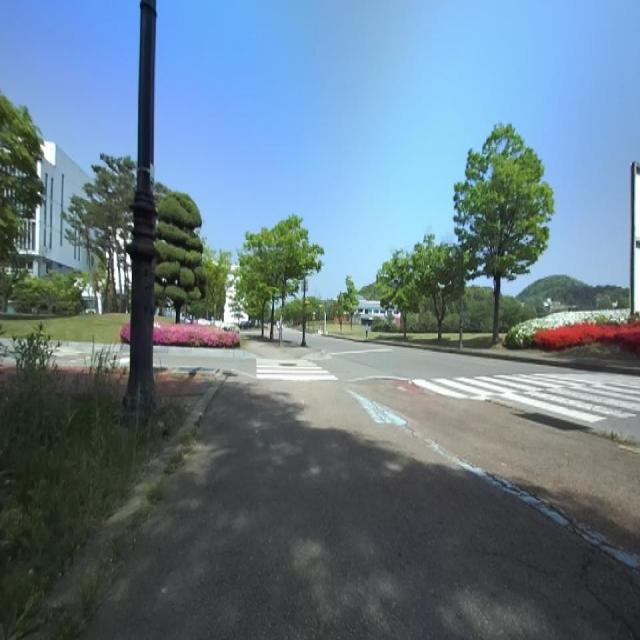sidewalk: (102, 377, 640, 639)
